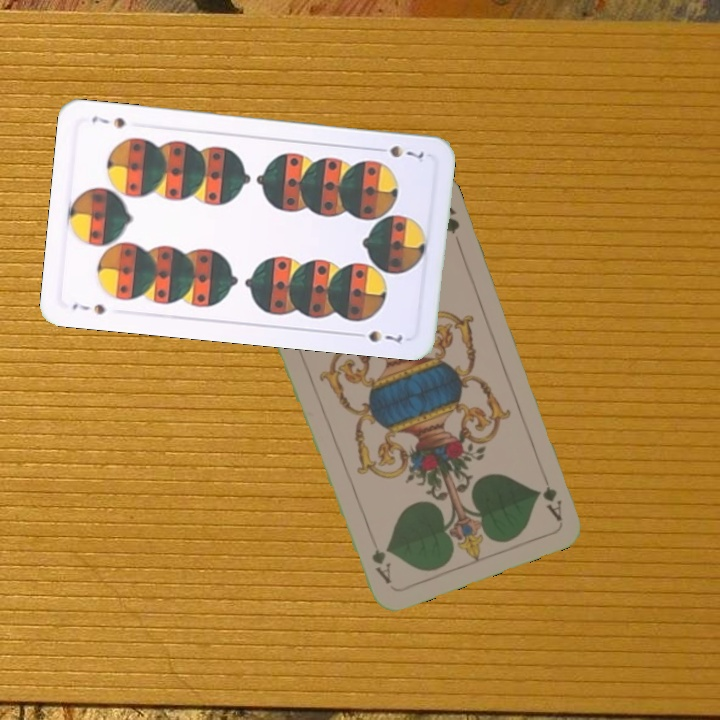GA: (536, 466, 565, 523)
S7: (371, 141, 427, 161), (68, 299, 107, 318)
